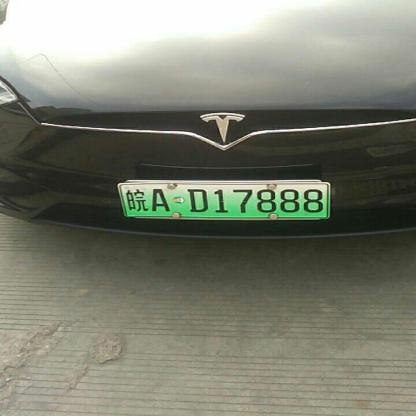lp: (118, 184, 330, 217)
